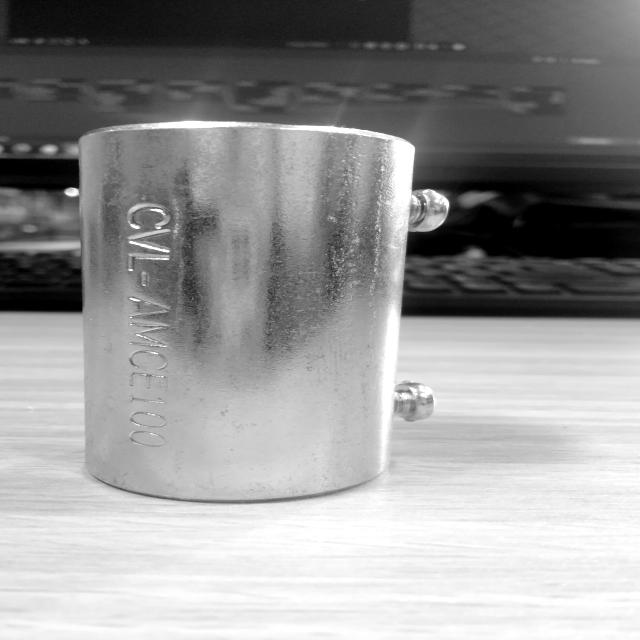Co_Nho: (80, 114, 454, 504)
